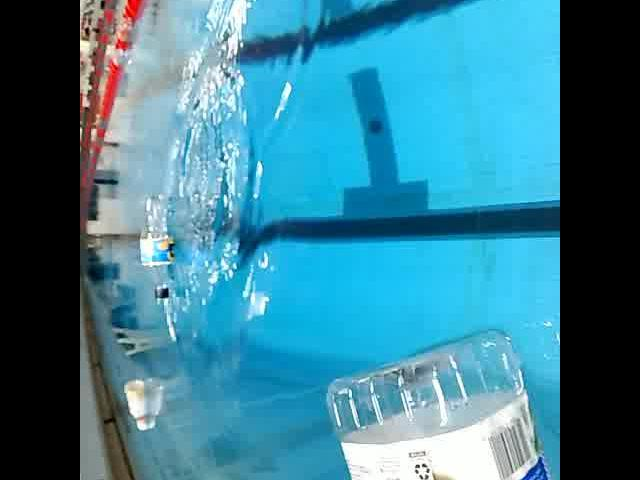Bottle: (319, 325, 560, 480), (138, 184, 178, 306), (124, 370, 154, 436)
